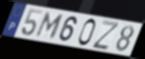0: (77, 18, 97, 47)
5: (20, 8, 43, 38)
6: (58, 15, 78, 43)
8: (114, 25, 135, 54)
M: (34, 11, 65, 40)
Z: (91, 19, 122, 51)
